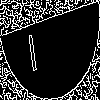I: (25, 24, 39, 72)
